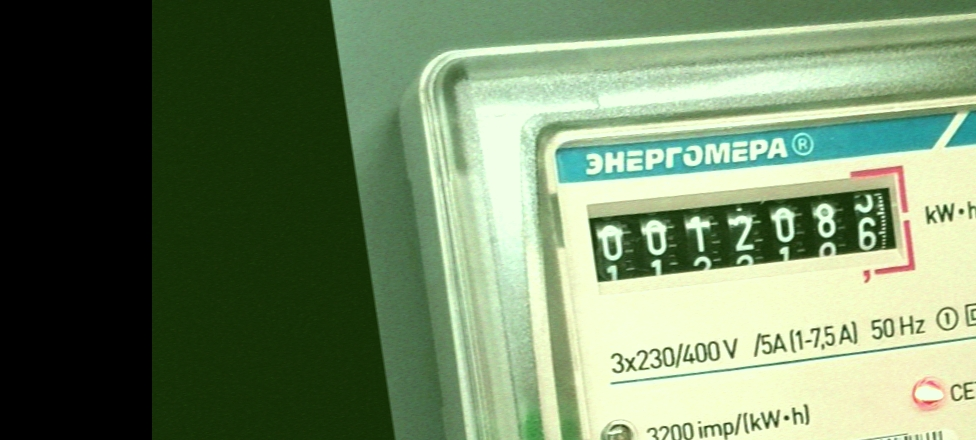0: (640, 213, 674, 258), (597, 217, 627, 263), (771, 202, 799, 244)
1: (685, 210, 713, 254)
2: (728, 210, 759, 252)
6: (852, 212, 881, 251)
8: (812, 197, 840, 240)
screen: (575, 142, 931, 329)
